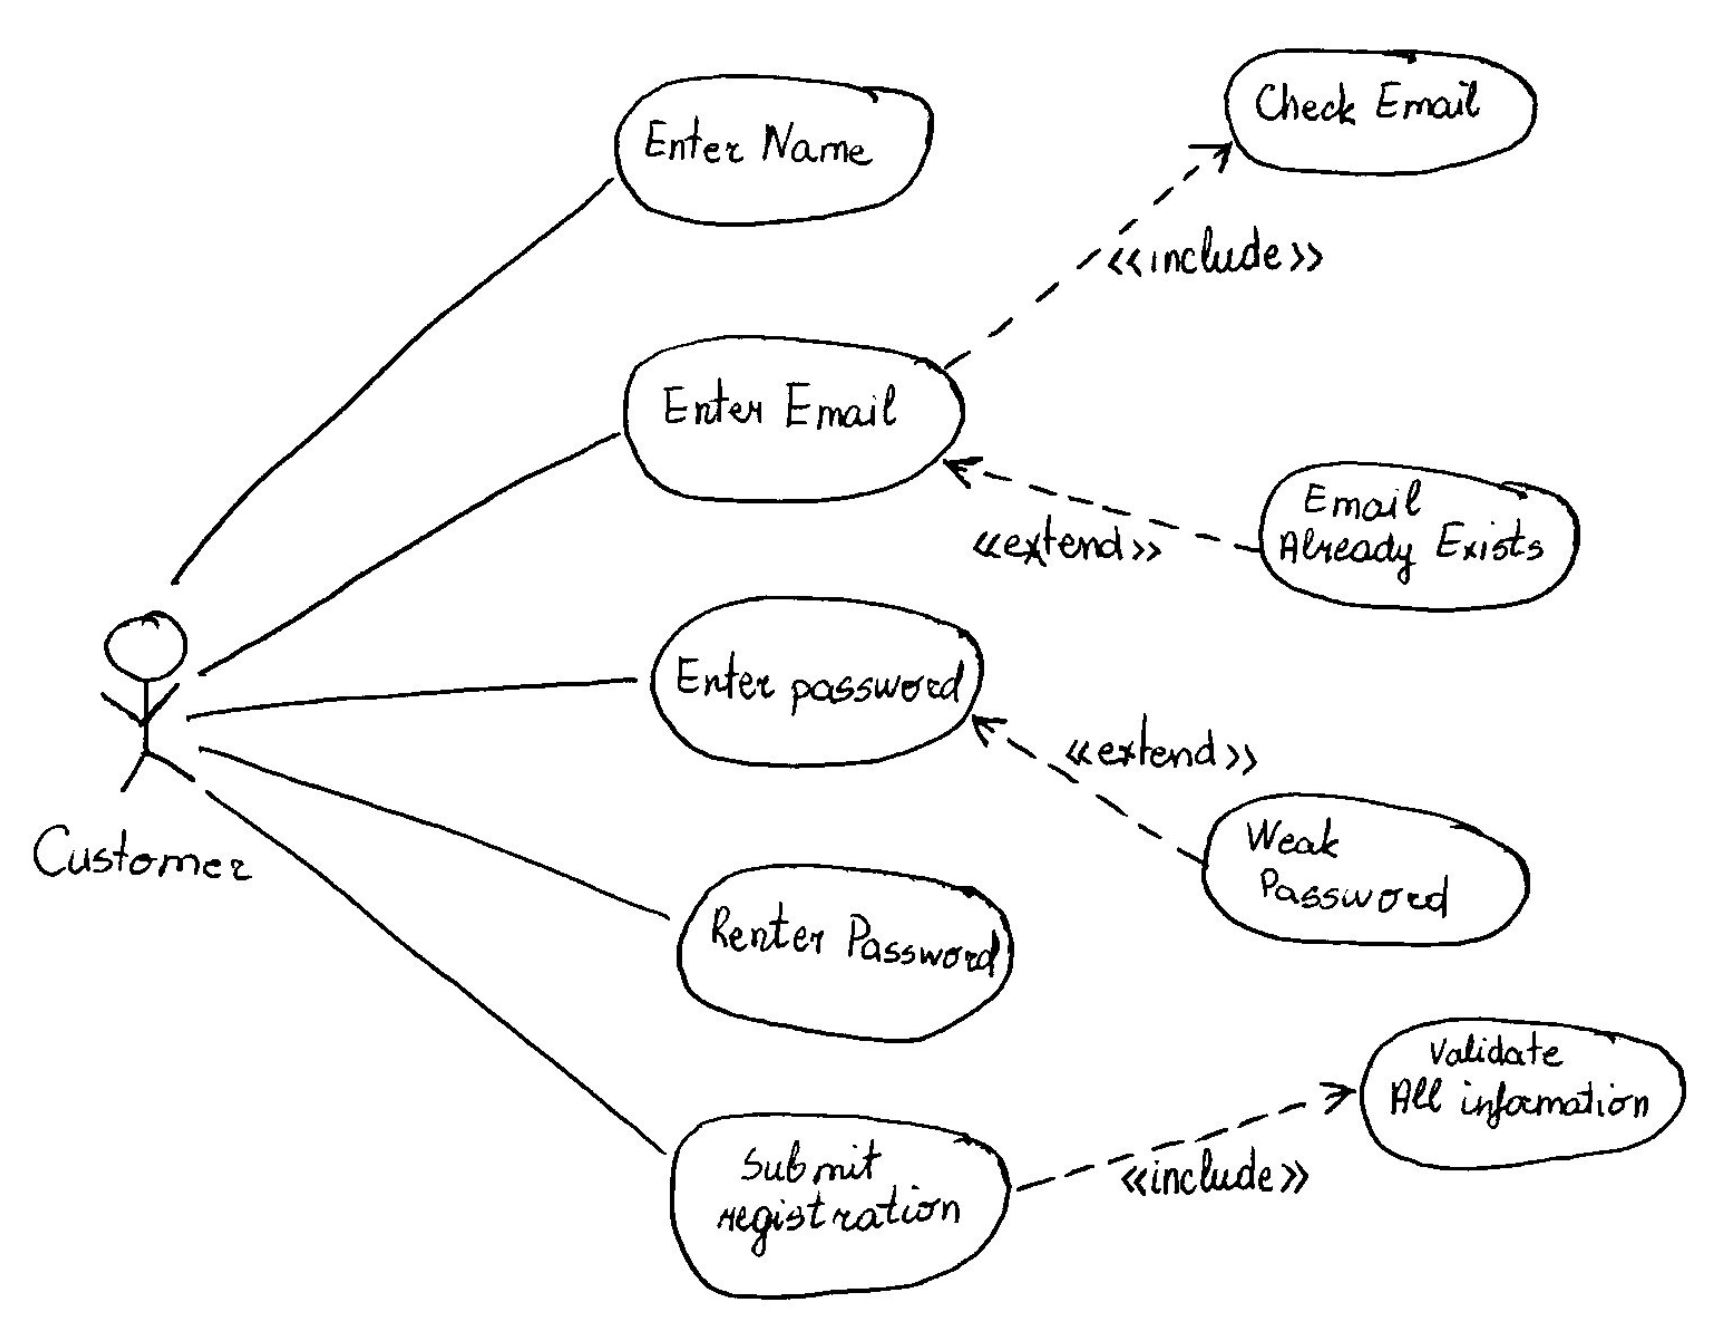actor: (98, 608, 195, 797)
association: (168, 175, 614, 587), (204, 788, 669, 1158), (197, 425, 627, 676), (202, 743, 669, 920), (941, 136, 1238, 370), (965, 709, 1202, 866), (1015, 1083, 1362, 1187), (936, 453, 1266, 558), (187, 671, 641, 730)
text: (700, 1137, 979, 1258), (1273, 477, 1550, 592), (1384, 1029, 1661, 1129), (708, 899, 1004, 986), (1241, 820, 1470, 930), (676, 648, 965, 716), (655, 373, 923, 434), (28, 820, 255, 887), (1060, 709, 1266, 781), (1256, 75, 1497, 134), (1098, 226, 1328, 285), (645, 112, 875, 170), (954, 522, 1175, 571), (1116, 1149, 1315, 1200)
use_case: (670, 1111, 1010, 1300), (677, 860, 1014, 1047), (650, 594, 983, 770), (623, 333, 961, 502), (1357, 1016, 1686, 1174), (1195, 793, 1531, 946), (614, 73, 936, 230), (1261, 461, 1580, 615), (1223, 44, 1538, 177)
